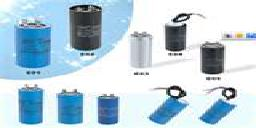Electrolytic-Capacitor: (13, 15, 55, 68), (147, 81, 190, 127), (66, 4, 108, 51), (199, 86, 239, 125), (162, 11, 192, 52), (17, 83, 46, 125), (56, 87, 85, 127), (127, 30, 156, 70), (199, 40, 227, 76), (94, 93, 124, 126)
